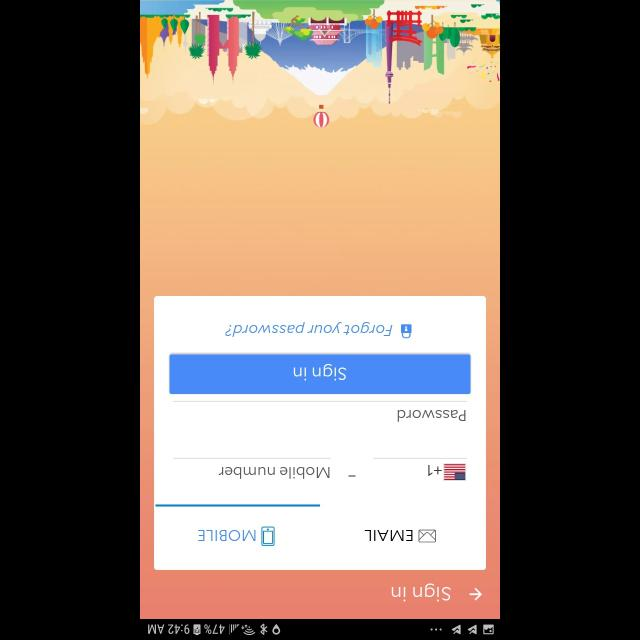backgroundimage: (140, 0, 500, 618)
icon: (418, 530, 436, 542), (401, 324, 412, 338), (470, 588, 482, 600)
image: (140, 0, 500, 128), (443, 464, 465, 481), (262, 526, 274, 546)
input: (174, 401, 466, 422), (173, 457, 331, 479), (372, 457, 466, 481)
text: (225, 322, 392, 336), (218, 466, 330, 478), (392, 582, 451, 602), (197, 530, 255, 540), (364, 530, 412, 540), (428, 464, 442, 476)
textbutton: (170, 354, 470, 394)
uppertaskbar: (140, 618, 500, 640)
